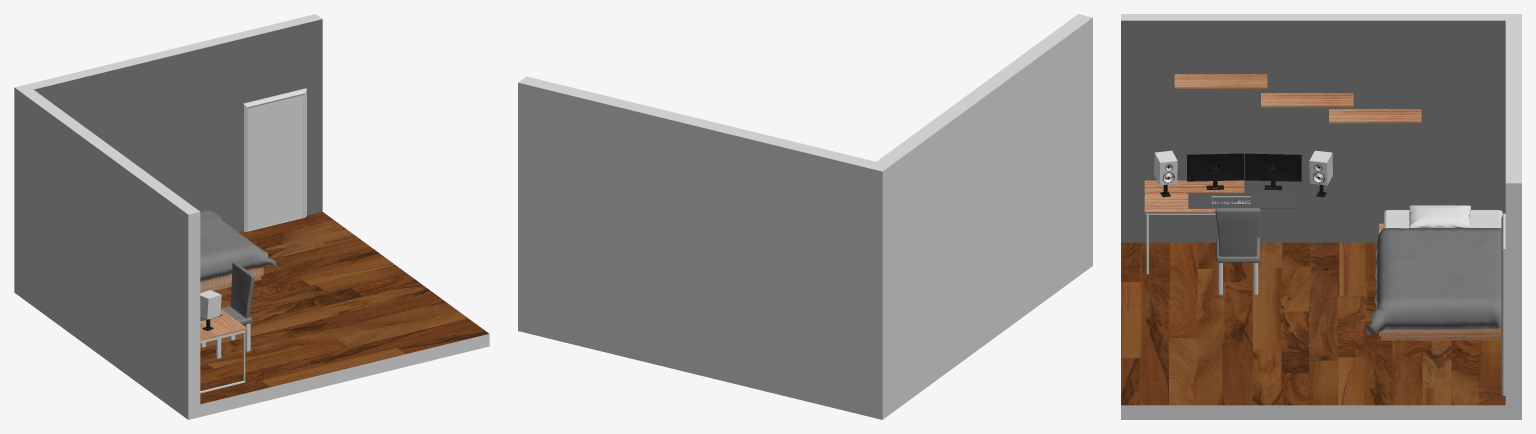
File: rum_uden_computer.glb
The picture shows the model from 3 angles, left to right: view 1: azimuth 30°, elevation 25°; view 2: azimuth 150°, elevation 25°; view 3: azimuth 270°, elevation 25°; orthographic projection. The views are drawn at different scales.
Visible parts, largest first — view 1: Cube, Cube.005, Plane.001, Plane, Cube.004, Cube.011, Cube.001; view 2: Cube; view 3: Cube, Plane.001, Plane, Cube.004, Cube.007, Cube.008, Cube.009, Cube.001, Cube.003, Cube.015, Cube.013, Cube.014 (+4 smaller).
Boxes of the visible parts, x1,y1,x2,y2 form: Cube: (14, 14, 489, 419); Cube.005: (243, 88, 306, 231); Plane.001: (199, 209, 280, 281); Plane: (200, 262, 254, 358); Cube.004: (200, 309, 247, 393); Cube.011: (200, 290, 221, 330); Cube.001: (200, 267, 263, 292); Cube: (518, 14, 1092, 419); Cube: (1121, 14, 1521, 419); Plane.001: (1365, 228, 1501, 334); Plane: (1215, 208, 1260, 294); Cube.004: (1144, 180, 1244, 274); Cube.007: (1244, 153, 1301, 190); Cube.008: (1188, 193, 1298, 208); Cube.009: (1187, 153, 1243, 189); Cube.001: (1379, 223, 1501, 340); Cube.003: (1409, 205, 1470, 228); Cube.015: (1174, 74, 1267, 88); Cube.013: (1261, 93, 1353, 107); Cube.014: (1329, 109, 1421, 123).
Size of the model in its own units: 8.66 by 5.64 by 8.66.
Materials: 10 (2 with a texture image).
